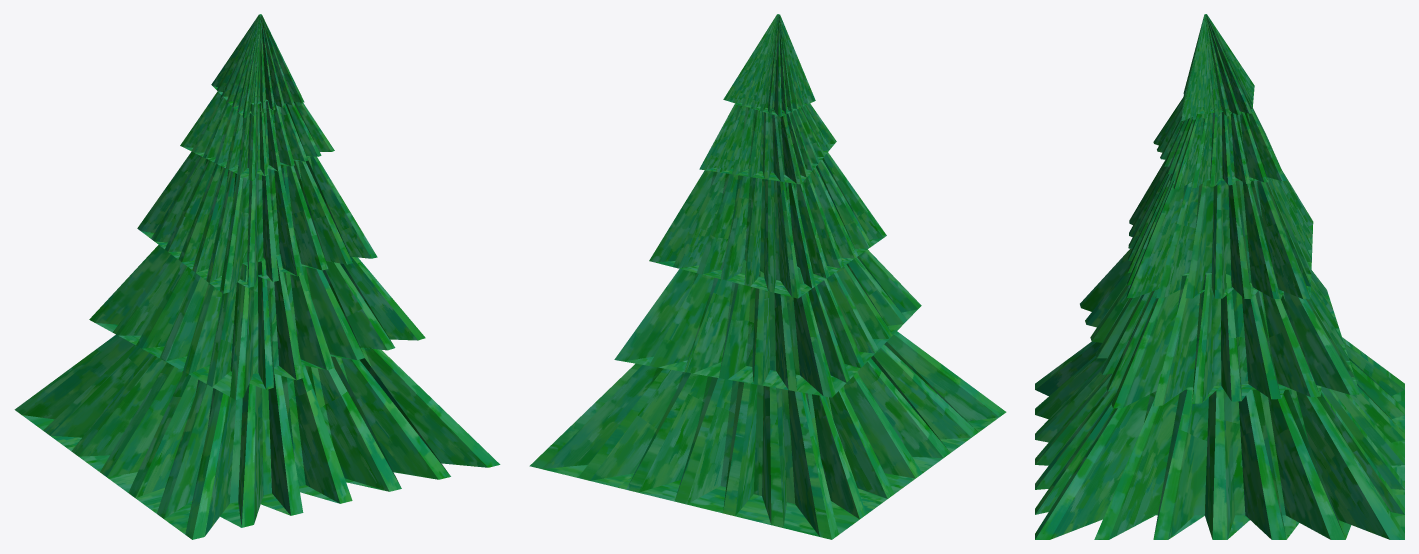
The model's file is ёлка (1).fbx.
The picture shows the model from 3 angles, left to right: view 1: azimuth 30°, elevation 25°; view 2: azimuth 150°, elevation 25°; view 3: azimuth 270°, elevation 25°; orthographic projection. The views are drawn at different scales.
Parts seen in each view (by area): view 1: Cube.016, Cube.017, Cube.018, Cube.019, Cube.020; view 2: Cube.016, Cube.017, Cube.018, Cube.019, Cube.020; view 3: Cube.016, Cube.017, Cube.018, Cube.019, Cube.020.
Part boxes in pixels (bbox=[...]): Cube.016: bbox=[14, 334, 500, 539]; Cube.017: bbox=[89, 245, 425, 399]; Cube.018: bbox=[137, 151, 377, 293]; Cube.019: bbox=[180, 90, 334, 180]; Cube.020: bbox=[211, 14, 304, 117]; Cube.016: bbox=[529, 331, 1006, 539]; Cube.017: bbox=[614, 249, 921, 397]; Cube.018: bbox=[649, 152, 886, 298]; Cube.019: bbox=[699, 103, 836, 184]; Cube.020: bbox=[723, 14, 815, 116]; Cube.016: bbox=[1035, 337, 1404, 539]; Cube.017: bbox=[1080, 249, 1359, 408]; Cube.018: bbox=[1126, 160, 1313, 299]; Cube.019: bbox=[1153, 97, 1286, 189]; Cube.020: bbox=[1181, 14, 1254, 120].
Bounding box in the file's own units: 150 × 199 × 150.
